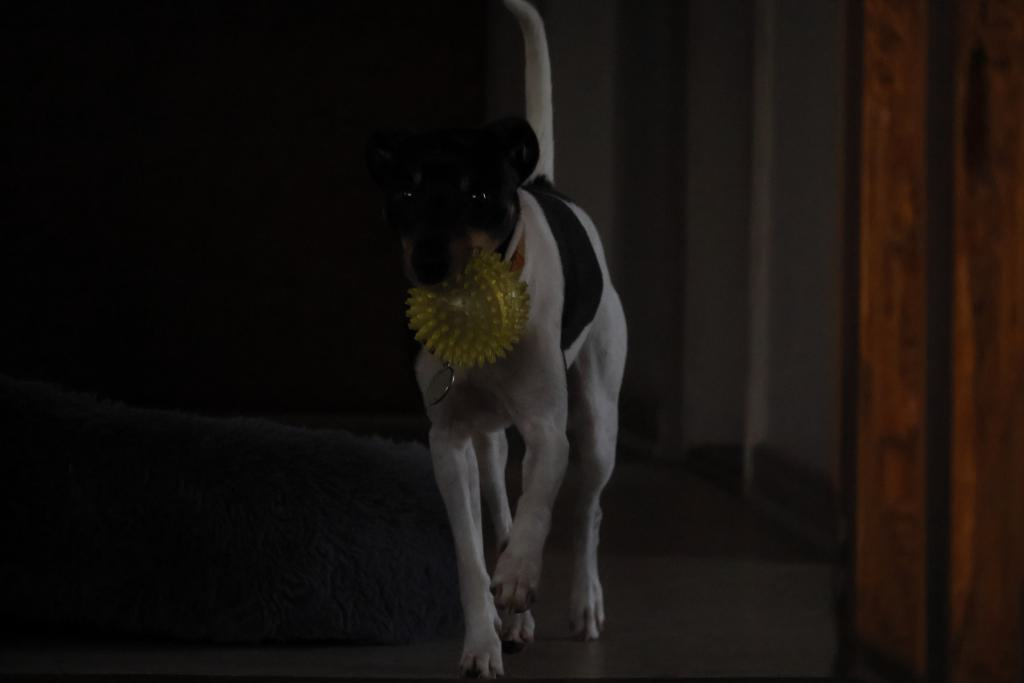Dog: (358, 0, 642, 683)
